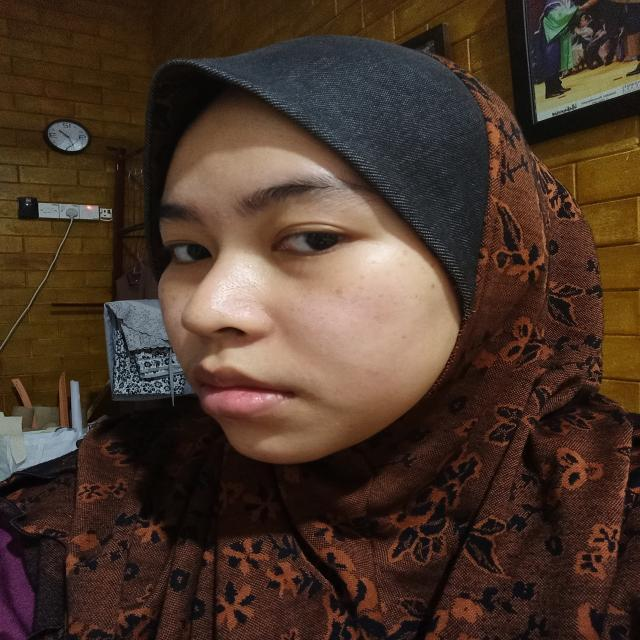pores: (280, 300, 370, 352), (208, 287, 262, 318), (224, 263, 267, 294)
